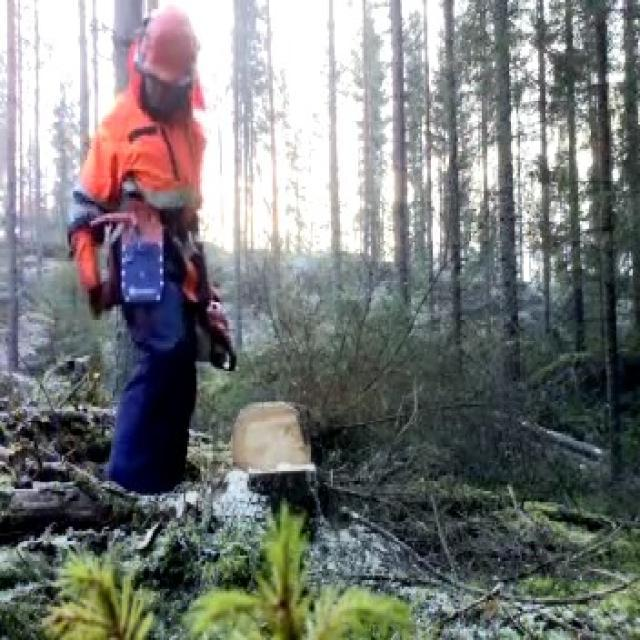Chainsaw: (172, 278, 264, 378)
